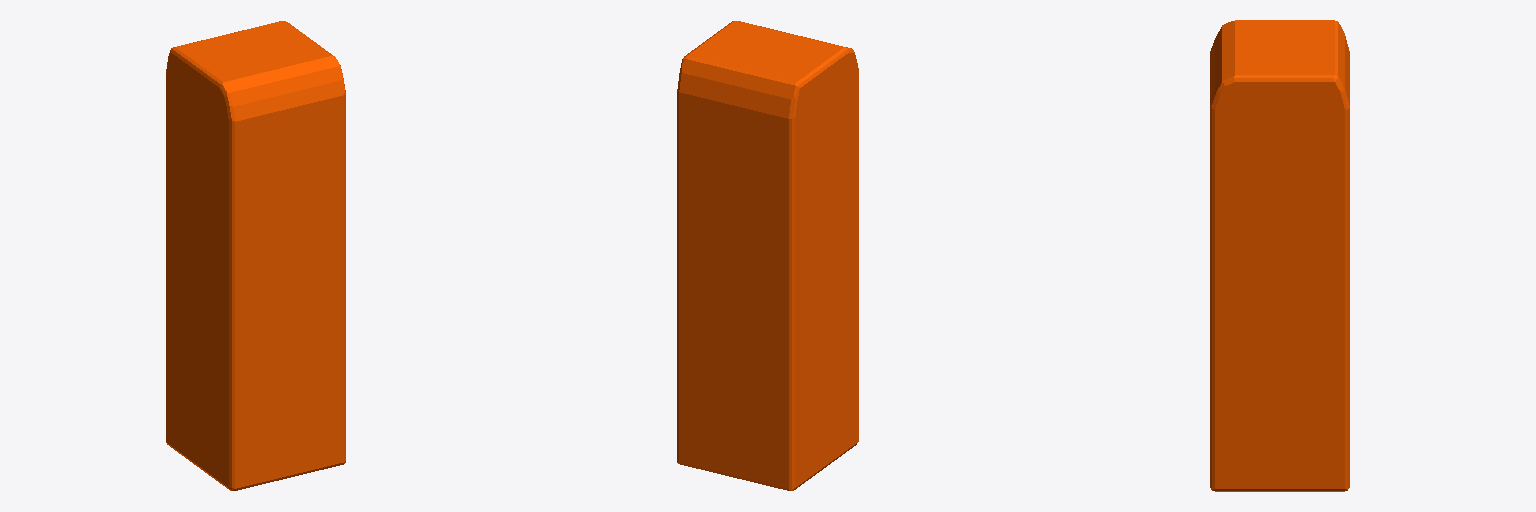
robot.urdf — Milkcarton:
<?xml version="1.0" ?>
<robot name="Milkcarton">
   <material name="obj_color">
      <color rgba="1.0 0.423529411765 0.0392156862745 1.0"/>
   </material>
   <link name="top">
      <inertial>
         <origin rpy="0.0001747120607897575 0.001025645899109843 0.001026590700089789" xyz="-1.604151023517996e-07 2.485352329583159e-05 -0.0004701510846910557"/>
         <mass value="0.5453158959816994"/>
         <inertia ixx="0.001025645905328269" ixy="2.456215505651252e-09" ixz="9.72342976150603e-09" iyy="0.001026589647507258" iyz="-9.440759639794495e-07" izz="0.0001747131071538626"/>
      </inertial>
      <visual>
         <origin rpy="0 0 0" xyz="0 0 0"/>
         <geometry>
            <mesh filename="top_watertight_tiny.obj" scale="1 1 1"/>
         </geometry>
         <material name="obj_color"/>
      </visual>
      <collision>
         <origin rpy="0 0 0" xyz="0 0 0"/>
         <geometry>
            <mesh filename="top_watertight_tiny.obj" scale="1 1 1"/>
         </geometry>
      </collision>
   </link>
</robot>

--- Render facts (derived) ---
3 views of the same robot in one strip: view 1: azimuth 30°, elevation 25°; view 2: azimuth 150°, elevation 25°; view 3: azimuth 270°, elevation 25° (orthographic).
Robot: Milkcarton — 1 links, 0 joints (none); root link top; default pose: every joint at zero.
Visible links, largest first — view 1: top; view 2: top; view 3: top.
Link boxes in pixels (<box>): top: <box>166,21,345,490</box>; top: <box>677,21,858,490</box>; top: <box>1210,20,1349,491</box>.
Size in the robot's own frame: 0.0441 by 0.0441 by 0.1447 metres.
1 mesh visuals loaded from 1 distinct referenced files (1 OBJ).